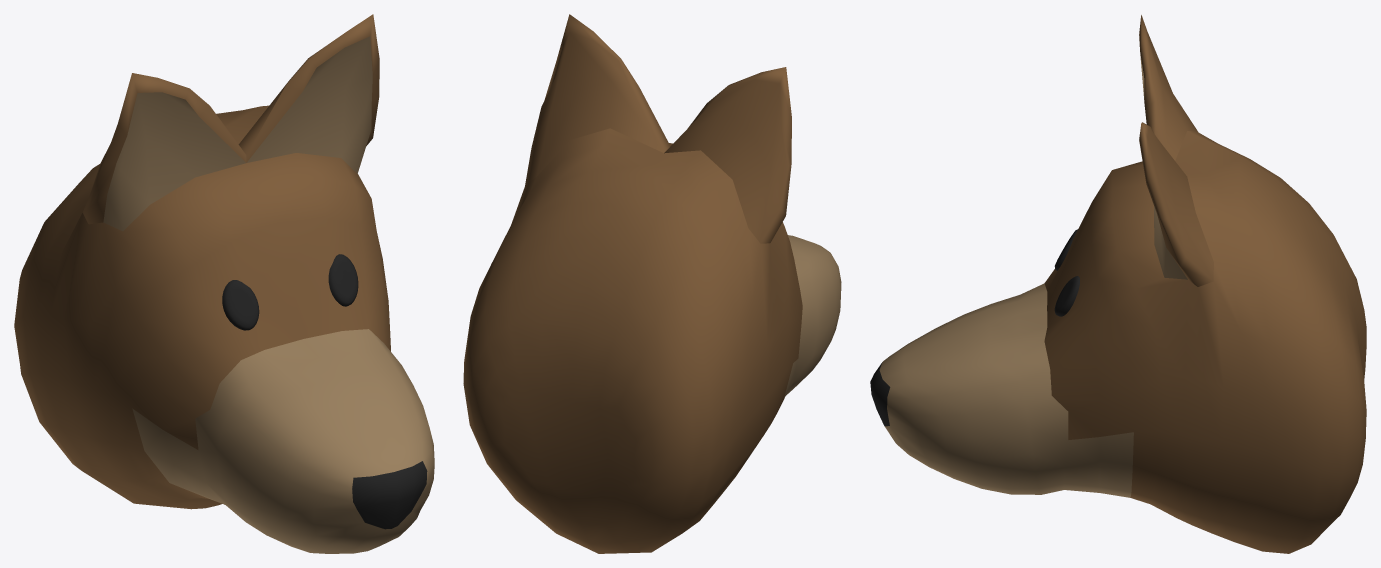
Rendered from DogModel (1).glb.
The picture shows the model from 3 angles, left to right: view 1: azimuth 30°, elevation 25°; view 2: azimuth 150°, elevation 25°; view 3: azimuth 270°, elevation 25°; orthographic projection. The views are drawn at different scales.
Visible parts, largest first — view 1: cachorro; view 2: cachorro; view 3: cachorro.
Boxes of the visible parts, x1,y1,x2,y2 form: cachorro: (14, 14, 434, 553); cachorro: (463, 14, 841, 553); cachorro: (870, 15, 1366, 553).
Size of the model in its own units: 1.8 by 3.06 by 2.88.
